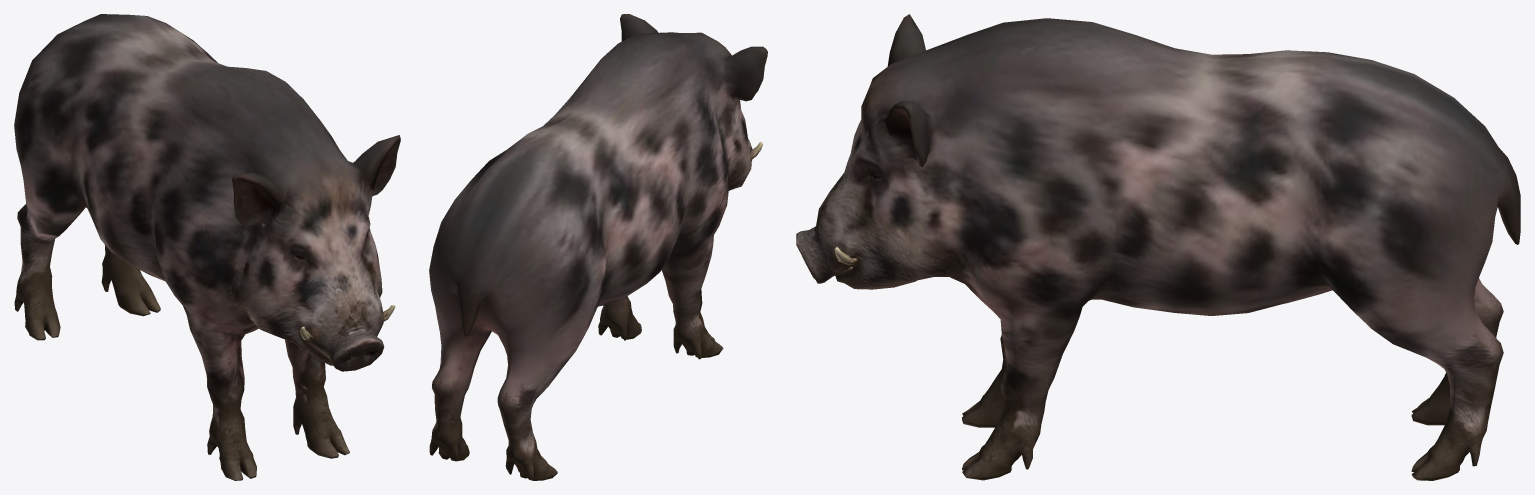
The model's file is javaporco_malhado.glb.
3 views of the same model, side by side, from view 1: azimuth 30°, elevation 25°; view 2: azimuth 150°, elevation 25°; view 3: azimuth 270°, elevation 25° (orthographic). The views are drawn at different scales.
Parts seen in each view (by area): view 1: Javaporco malhado; view 2: Javaporco malhado; view 3: Javaporco malhado.
Part boxes in pixels (left/top/right/bottom): Javaporco malhado: left=14, top=14, right=400, bottom=480; Javaporco malhado: left=429, top=14, right=767, bottom=480; Javaporco malhado: left=796, top=14, right=1520, bottom=480.
Size of the model in its own units: 0.3301 by 0.6387 by 0.998.
Materials: 1 (1 with a texture image).
